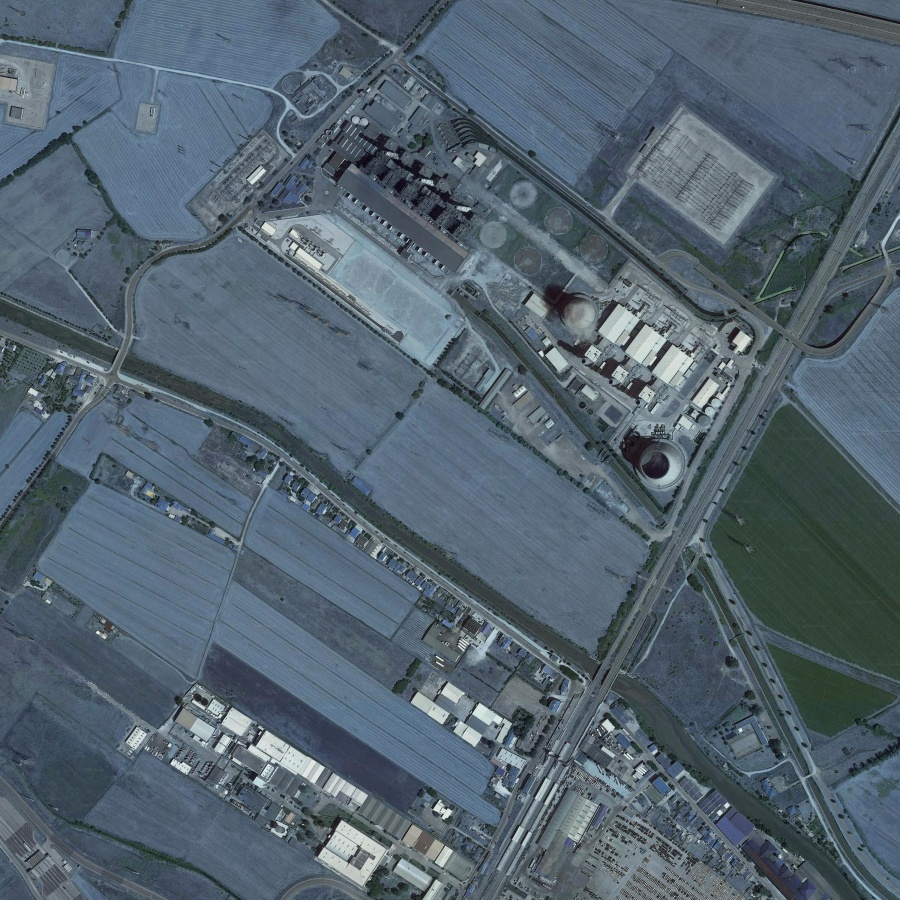PowerPlant: (295, 99, 749, 506)
